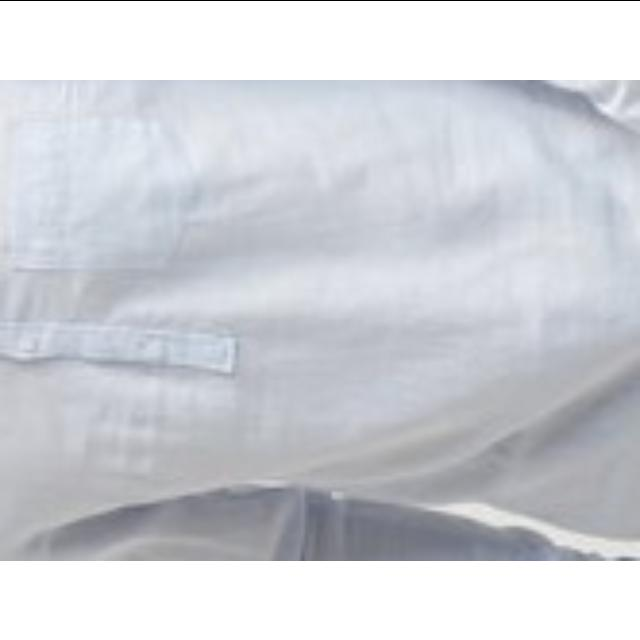linen: (0, 80, 640, 560)
